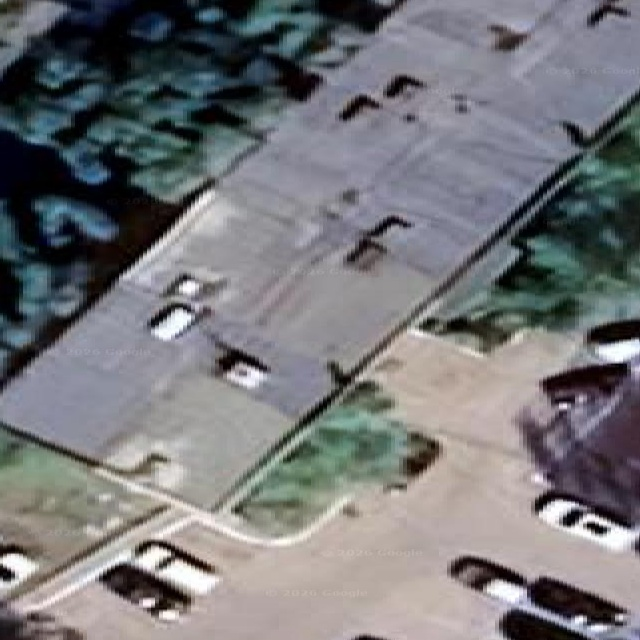car: (449, 555, 635, 639), (100, 540, 219, 620), (533, 493, 639, 551), (527, 576, 627, 632), (101, 564, 190, 620), (129, 540, 219, 595), (540, 363, 627, 408), (448, 555, 526, 603), (500, 609, 583, 639), (584, 320, 639, 362), (0, 544, 37, 592), (148, 303, 196, 340), (632, 631, 633, 632)
